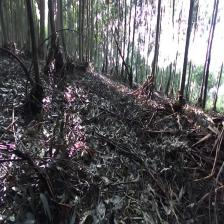trunk: (26, 4, 43, 92), (178, 8, 193, 99), (47, 5, 64, 66), (149, 7, 161, 84)
